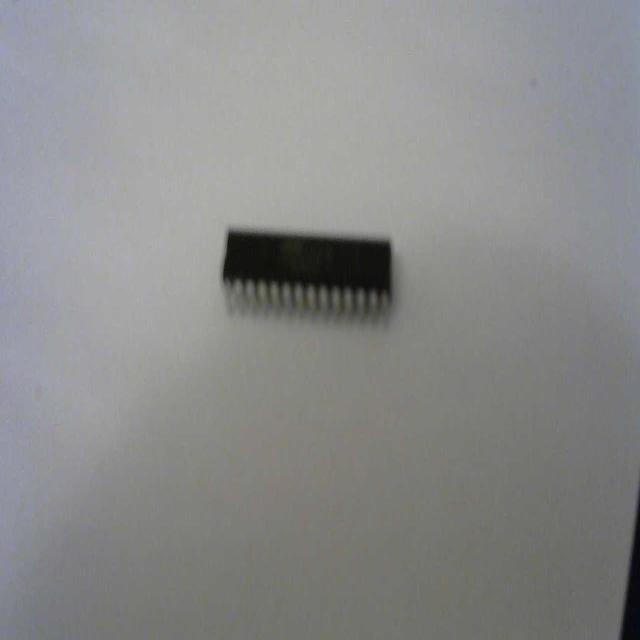atmega: (219, 223, 395, 327)
